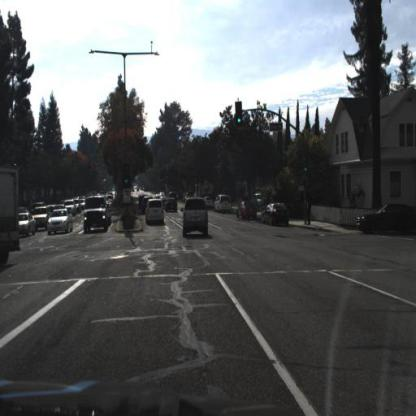car: (356, 202, 416, 237), (182, 195, 212, 239), (84, 194, 113, 235), (46, 207, 75, 237), (145, 192, 167, 228), (261, 202, 291, 228), (46, 208, 74, 235), (15, 213, 37, 238), (17, 213, 38, 236), (213, 195, 236, 216), (237, 198, 257, 220), (34, 208, 52, 231), (33, 207, 49, 232), (214, 194, 232, 213), (164, 196, 178, 216), (31, 199, 45, 212), (142, 191, 150, 212), (205, 195, 214, 209), (170, 190, 180, 202), (154, 192, 165, 201)
pedestrian: (306, 199, 314, 226)
trafficLight-Green: (236, 100, 244, 129), (236, 102, 243, 128), (304, 158, 310, 176)
trafficLight-GreenLeft: (123, 164, 131, 186)
trafficLight-RedLeft: (123, 167, 131, 190)
truck: (82, 192, 112, 233)
